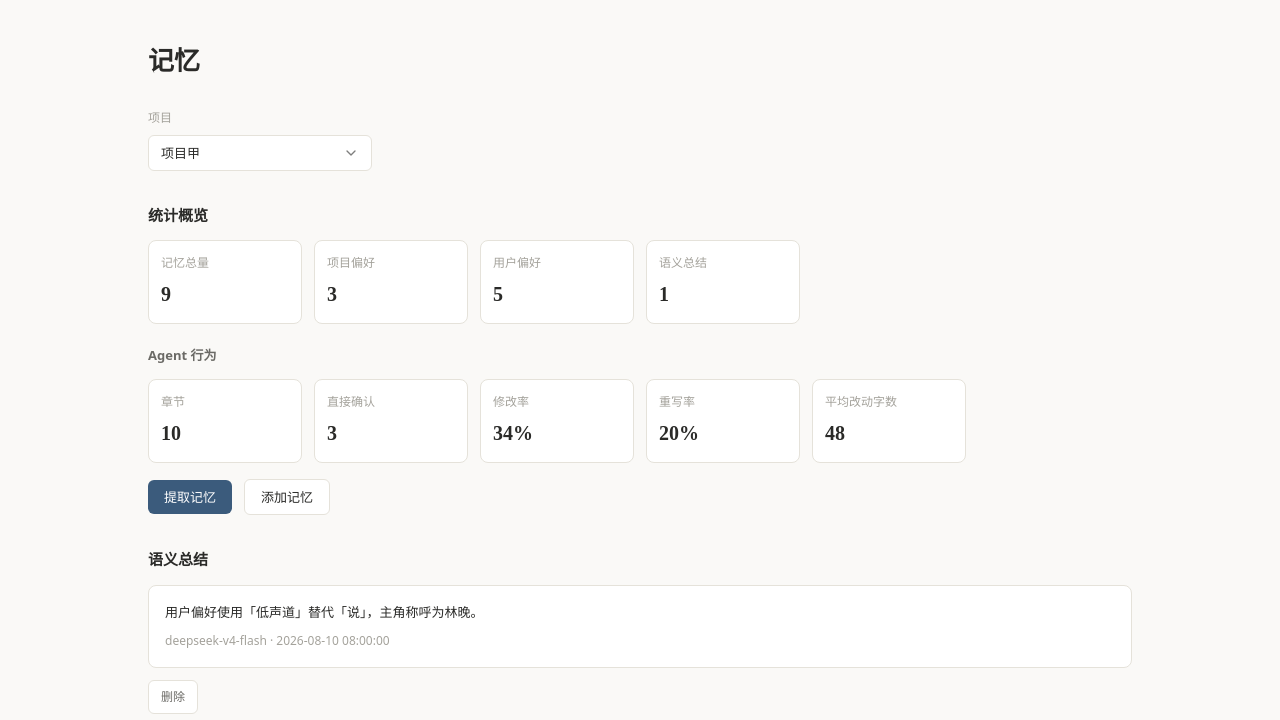
记忆页 — 提取记忆 › 点击提取 → summarizeMemory(pid, true) → 成功后 summary 内容更新
Check: the element with test id "memory-summary-card" is shown, box [148, 584, 1132, 668]
What coordinates should you click on to do the following:
click the button with test id "memory-extract-btn"
I would click on:
 (190, 497)
Its box is [148, 480, 232, 514].
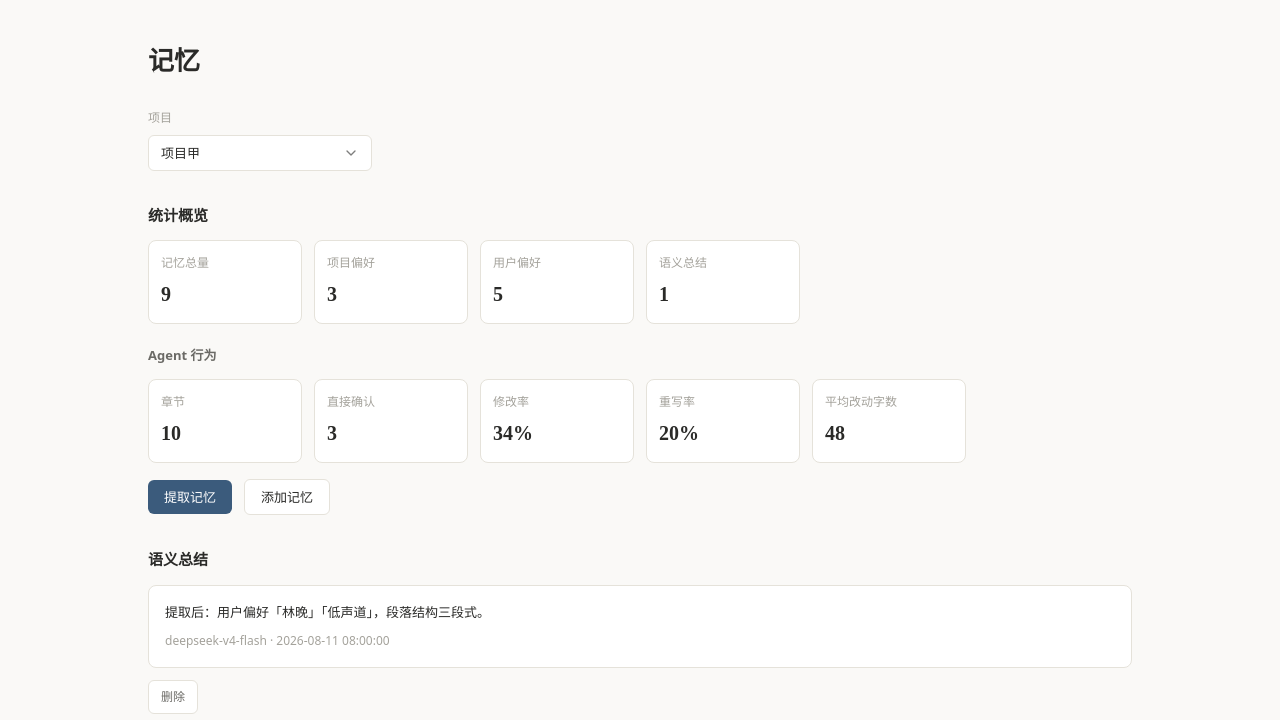
Check: the text with test id "memory-summary-content" reads "提取后：用户偏好「林晚」「低声道」，段落结构三段式。", box [165, 602, 490, 620]
